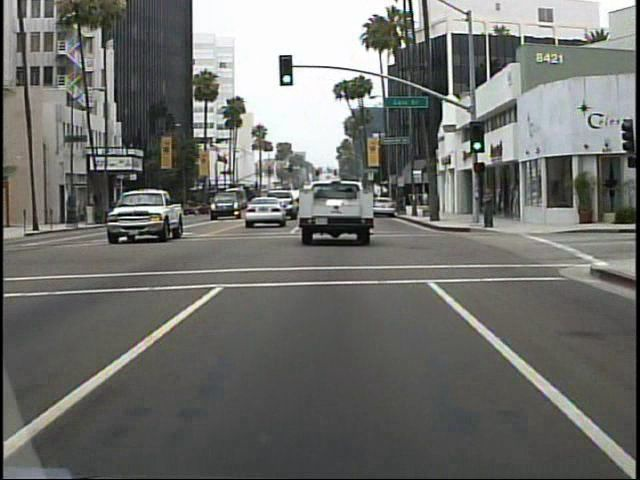person: (478, 179, 497, 233)
